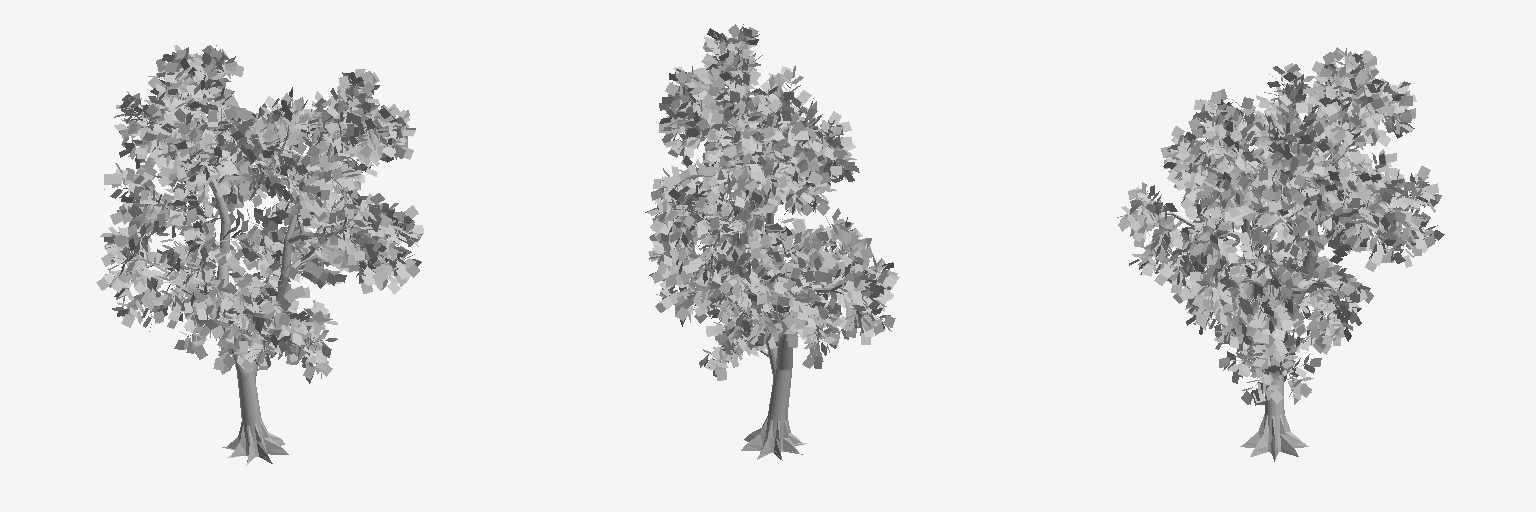
Rendered from double3.obj.
3 views of the same model, side by side, from view 1: azimuth 30°, elevation 25°; view 2: azimuth 150°, elevation 25°; view 3: azimuth 270°, elevation 25° (orthographic).
Parts seen in each view (by area): view 1: Tree_Druid2, Tree_Druid_12, Tree_Druid9, Tree_Druid7, Tree_Druid_17, Tree_Druid_19, Tree_Druid_18; view 2: Tree_Druid2, Tree_Druid_12, Tree_Druid9, Tree_Druid7; view 3: Tree_Druid_12, Tree_Druid2, Tree_Druid9, Tree_Druid7, Tree_Druid_17.
Part boxes in pixels (x1,y1,x2,y2): Tree_Druid2: (96, 45, 337, 383); Tree_Druid_12: (174, 69, 423, 374); Tree_Druid9: (198, 101, 288, 465); Tree_Druid7: (114, 69, 322, 364); Tree_Druid_17: (188, 96, 405, 355); Tree_Druid_19: (248, 91, 362, 380); Tree_Druid_18: (196, 110, 365, 314); Tree_Druid2: (645, 89, 899, 380); Tree_Druid_12: (648, 24, 848, 368); Tree_Druid9: (741, 152, 806, 460); Tree_Druid7: (666, 108, 882, 362); Tree_Druid_12: (1117, 89, 1373, 351); Tree_Druid2: (1173, 47, 1444, 405); Tree_Druid9: (1240, 63, 1360, 461); Tree_Druid7: (1189, 59, 1426, 390); Tree_Druid_17: (1134, 107, 1356, 331).
Size of the model in its own units: 44.05 by 59 by 45.86.